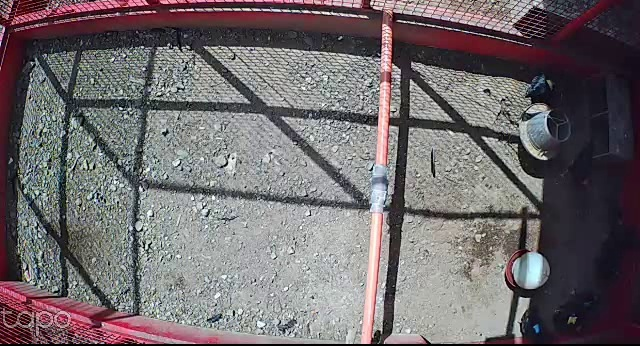Chicken: (559, 138, 598, 191), (552, 292, 589, 340), (518, 308, 556, 346), (523, 70, 566, 99)
Drinker: (504, 249, 550, 290)
Feeder: (518, 103, 575, 163)
Saddle_Color_Blue: (534, 323, 541, 333)
Saddle_Color_Yellow: (546, 79, 555, 89), (569, 316, 576, 324)
